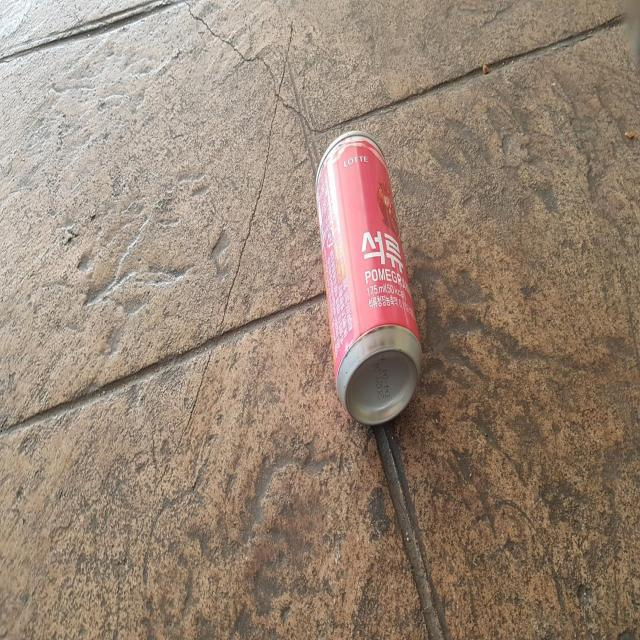can: (316, 130, 422, 425)
